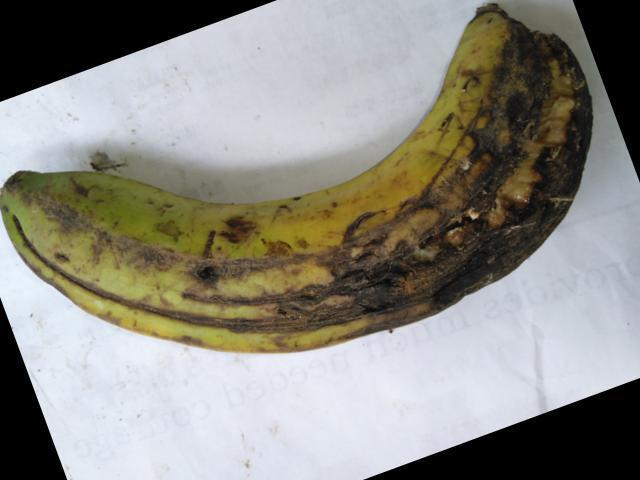rotten: (347, 7, 612, 357), (49, 235, 368, 369)
